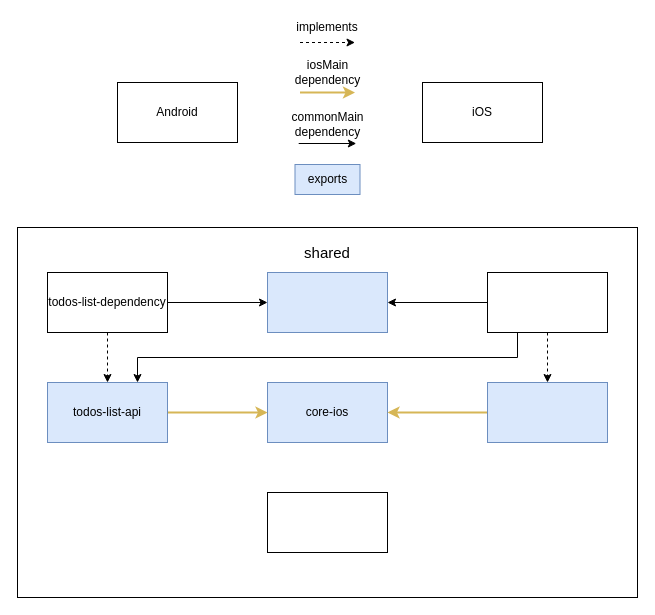
Some shapes in this 655 by 615 pixel diagram are drawn without their labels. Here are the shapes that lost their labels. From the top down, the centre of each, then its label:
At pixel 327 302: "core-common".
At pixel 547 302: "todos-count-dependency".
At pixel 547 412: "todos-count-api".
At pixel 327 522: "core-test".
